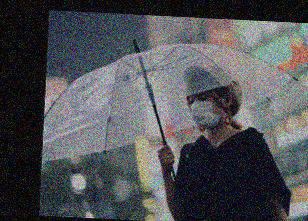with_mask: (185, 89, 225, 128)
